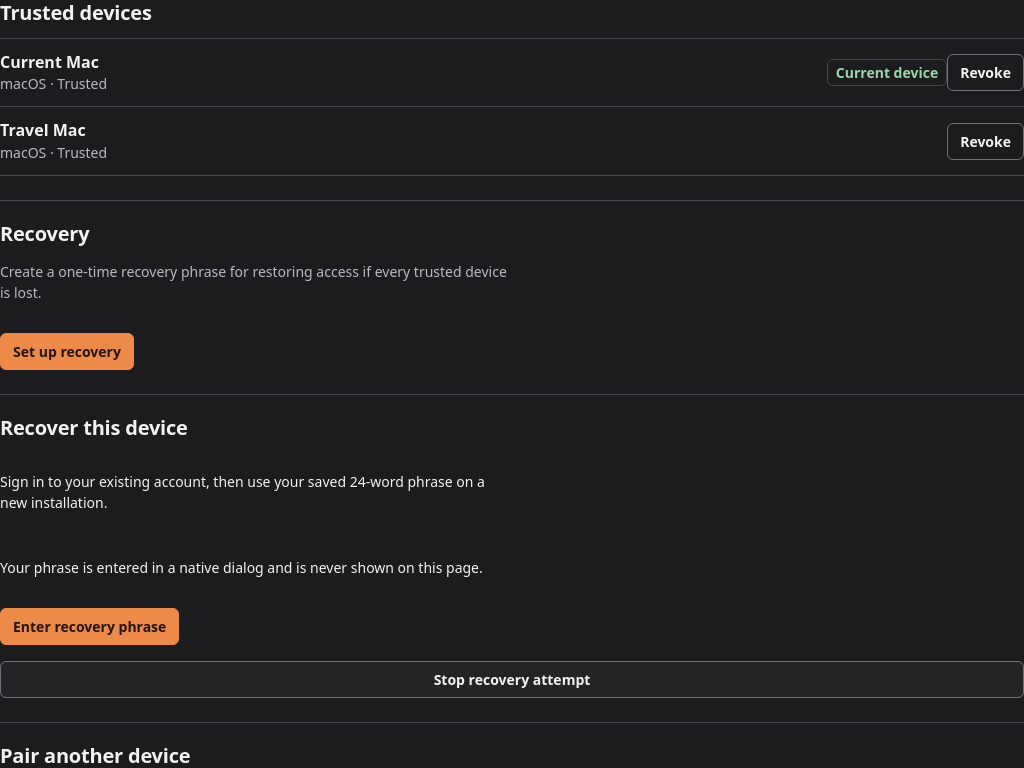
Test case: DevicesScreen › requires explicit revocation confirmation and keeps an uncertain operation for status
Check: the heading "Travel Mac" is shown, box [0, 119, 86, 141]
Click the button with aria-label "Revoke Travel Mac".
click(986, 141)  # box [947, 123, 1023, 160]
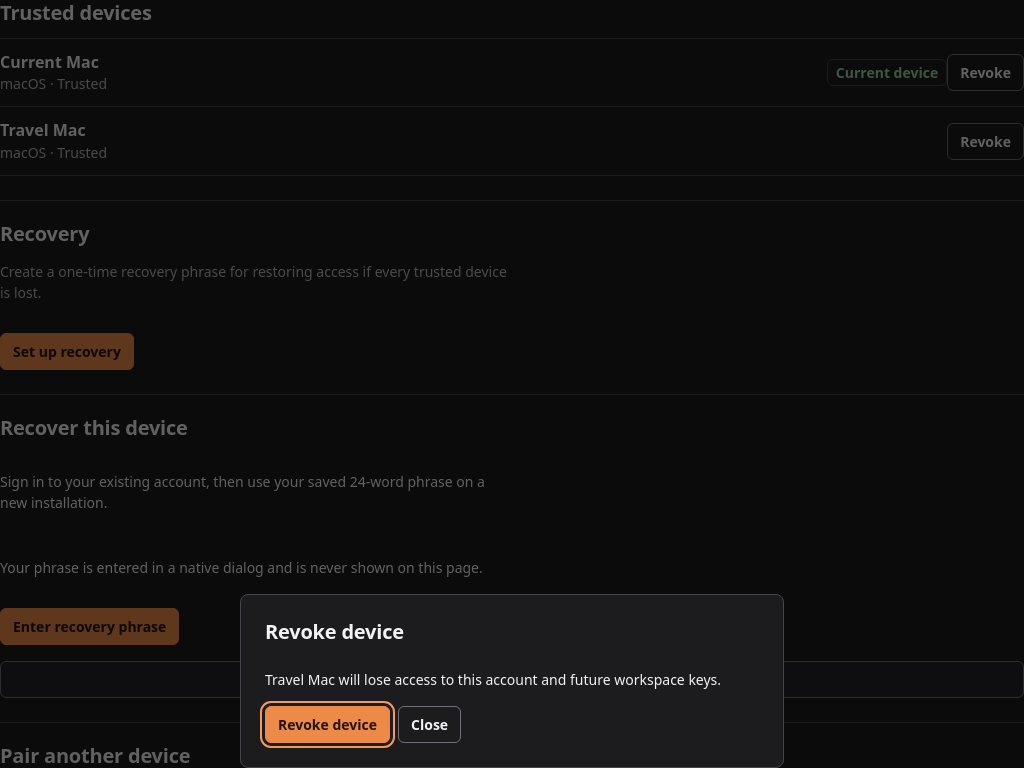
Check: the text "Travel Mac will lose access" is shown, box [265, 669, 759, 690]
Click the button "Revoke device".
click(328, 724)  # box [265, 706, 390, 743]
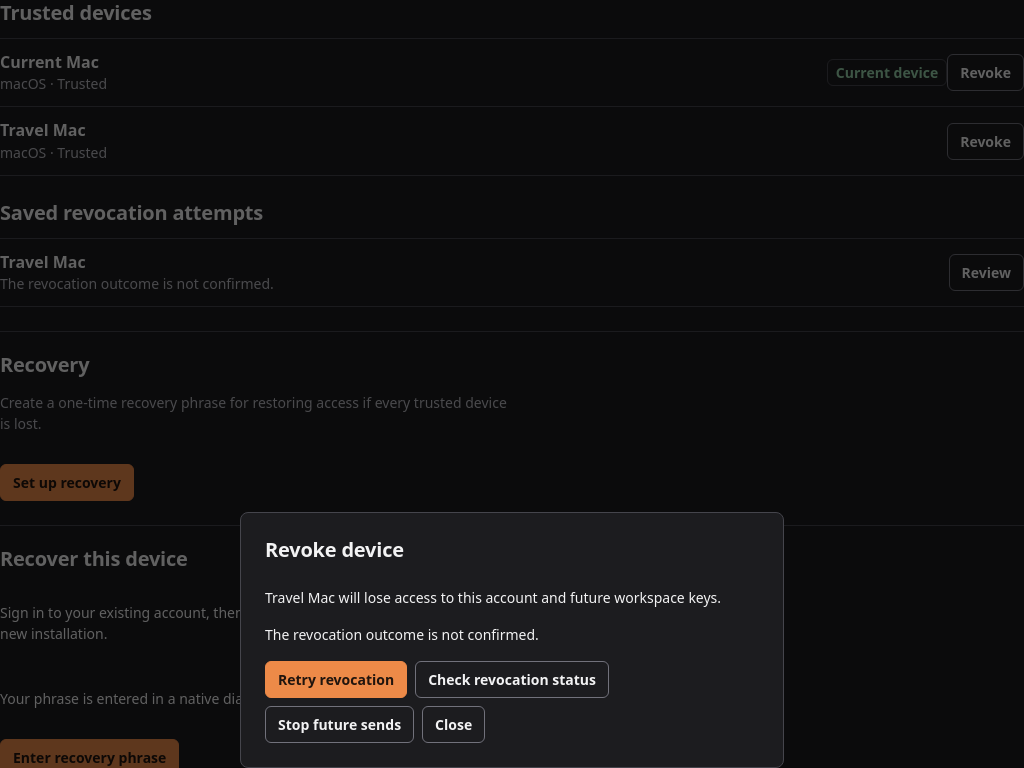
Check: the text "The revocation outcome is not confirmed." is shown, box [265, 625, 539, 644]
Click the button "Check revocation status".
click(512, 680)  # box [415, 661, 609, 698]
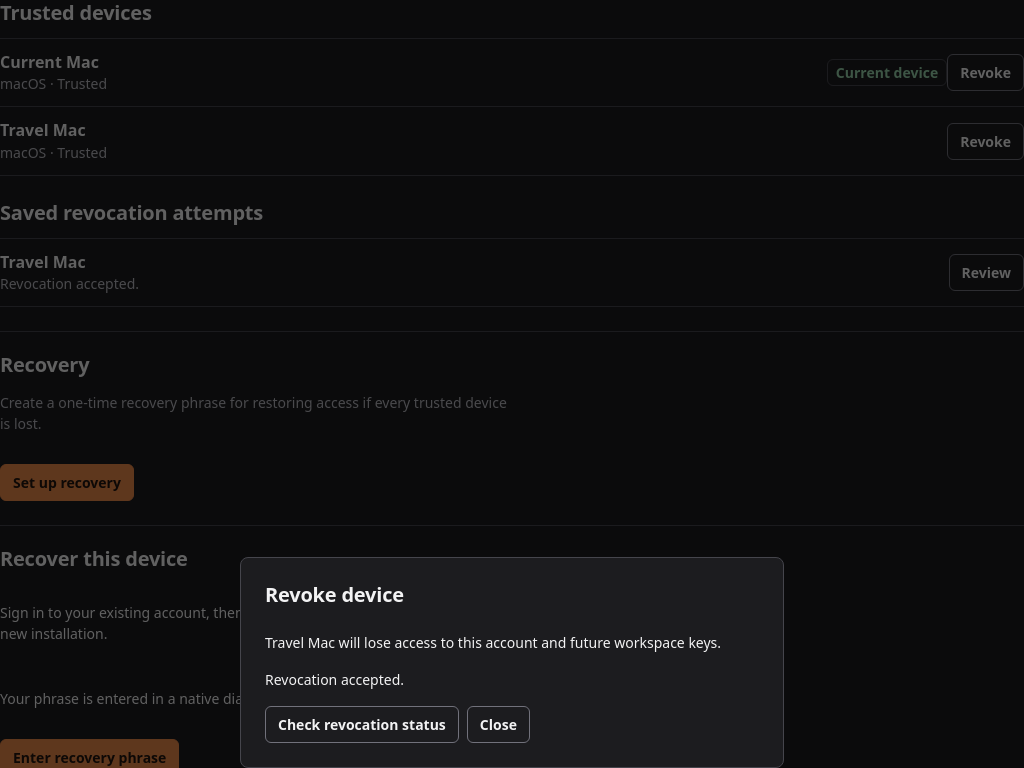
Check: the text "Revocation accepted." is shown, box [265, 670, 404, 689]
